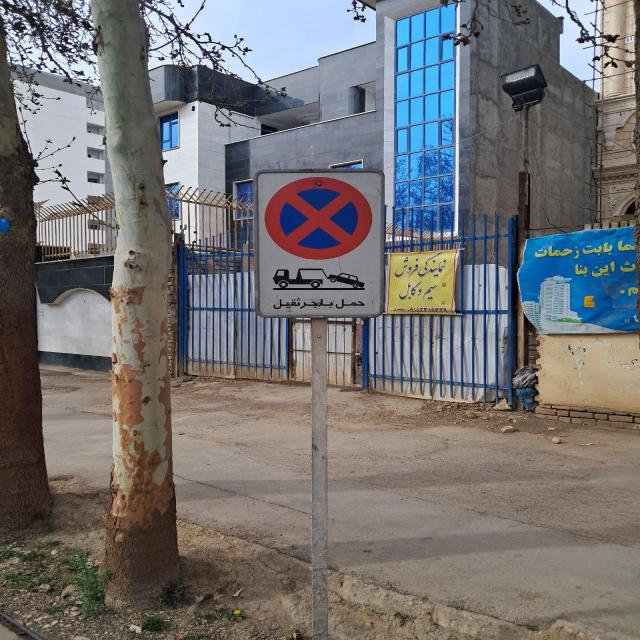no stopping: (265, 170, 385, 322)
